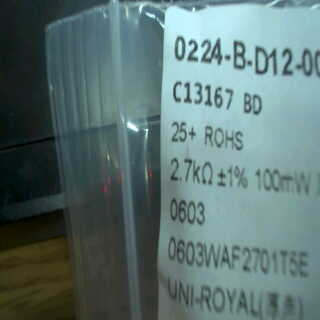2.7kR: (168, 150, 214, 192)
